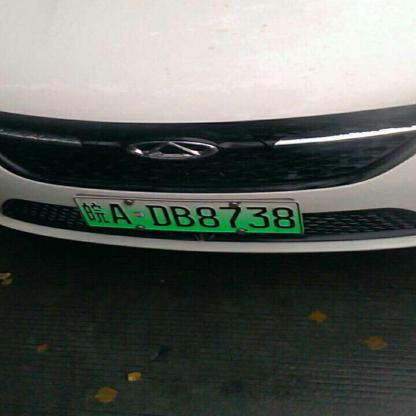lp: (73, 197, 301, 231)
